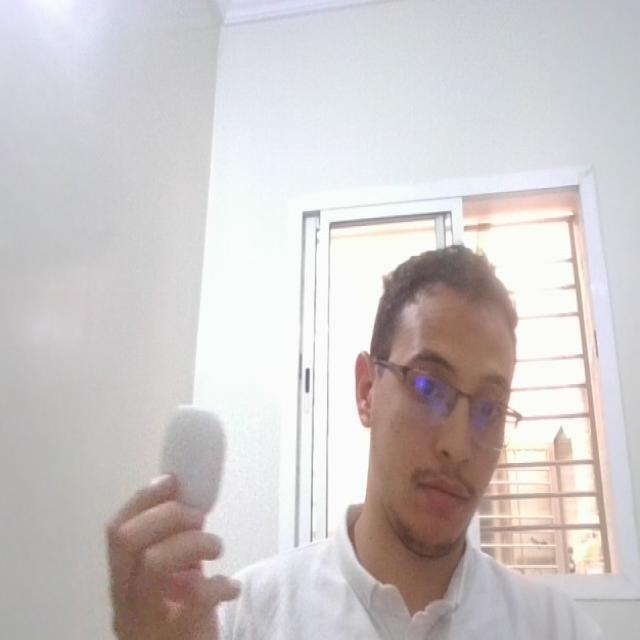airpods: (156, 394, 230, 524)
